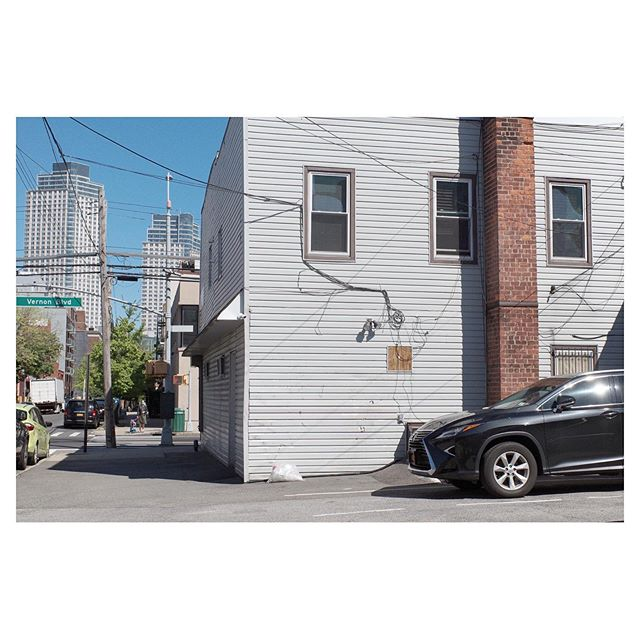building: (184, 121, 620, 479), (26, 158, 102, 328), (136, 197, 200, 351)
car: (406, 370, 640, 496), (66, 395, 101, 429)
